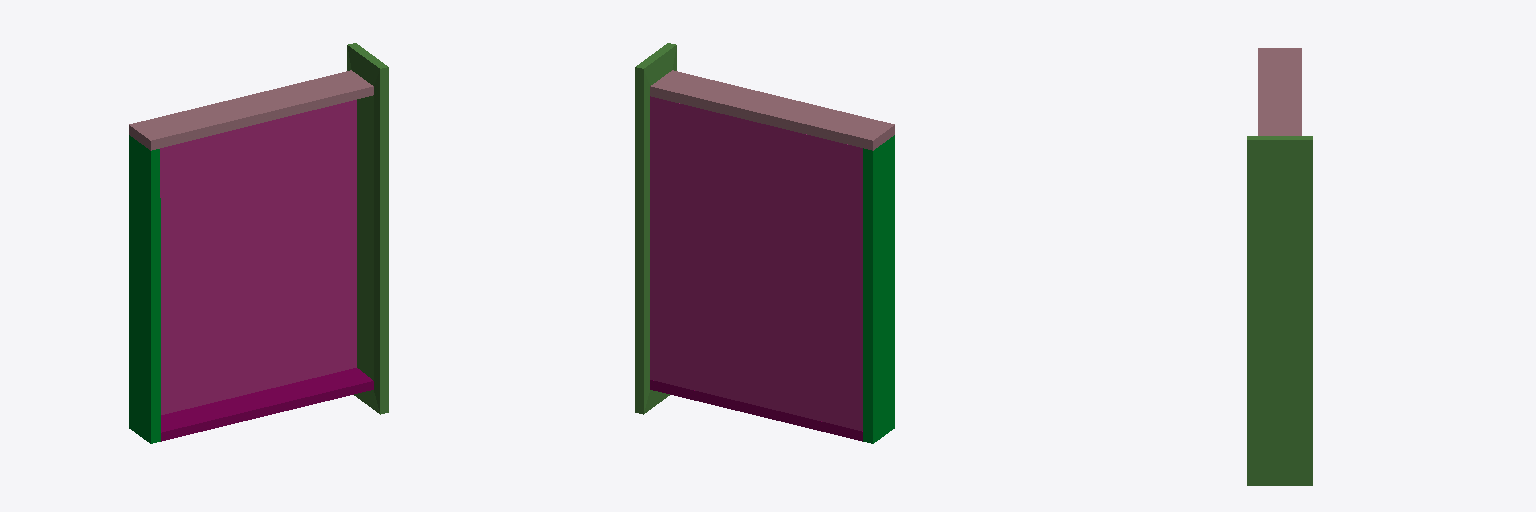
File: Drawer_80_14.obj
3 views of the same model, side by side, from view 1: azimuth 30°, elevation 25°; view 2: azimuth 150°, elevation 25°; view 3: azimuth 270°, elevation 25° (orthographic).
Visible parts, largest first — view 1: Shape_IndexedFaceSet.004_Shape_IndexedFaceSet.129, Shape_IndexedFaceSet_Shape_IndexedFaceSet.125, Shape_IndexedFaceSet.001_Shape_IndexedFaceSet.126, Shape_IndexedFaceSet.002_Shape_IndexedFaceSet.127, Shape_IndexedFaceSet.003_Shape_IndexedFaceSet.128; view 2: Shape_IndexedFaceSet.004_Shape_IndexedFaceSet.129, Shape_IndexedFaceSet.001_Shape_IndexedFaceSet.126, Shape_IndexedFaceSet.002_Shape_IndexedFaceSet.127, Shape_IndexedFaceSet_Shape_IndexedFaceSet.125, Shape_IndexedFaceSet.003_Shape_IndexedFaceSet.128; view 3: Shape_IndexedFaceSet_Shape_IndexedFaceSet.125, Shape_IndexedFaceSet.002_Shape_IndexedFaceSet.127.
Part boxes in pixels (x1,y1,x2,y2): Shape_IndexedFaceSet.004_Shape_IndexedFaceSet.129: (160,100,356,414); Shape_IndexedFaceSet_Shape_IndexedFaceSet.125: (347,43,388,414); Shape_IndexedFaceSet.001_Shape_IndexedFaceSet.126: (129,135,160,443); Shape_IndexedFaceSet.002_Shape_IndexedFaceSet.127: (129,70,373,150); Shape_IndexedFaceSet.003_Shape_IndexedFaceSet.128: (161,368,373,441); Shape_IndexedFaceSet.004_Shape_IndexedFaceSet.129: (650,96,862,430); Shape_IndexedFaceSet.001_Shape_IndexedFaceSet.126: (863,135,894,443); Shape_IndexedFaceSet.002_Shape_IndexedFaceSet.127: (650,70,894,150); Shape_IndexedFaceSet_Shape_IndexedFaceSet.125: (635,43,676,414); Shape_IndexedFaceSet.003_Shape_IndexedFaceSet.128: (650,380,862,441); Shape_IndexedFaceSet_Shape_IndexedFaceSet.125: (1247,136,1312,485); Shape_IndexedFaceSet.002_Shape_IndexedFaceSet.127: (1258,48,1301,135).
Size of the model in its own units: 0.5616 by 0.7976 by 0.1385.